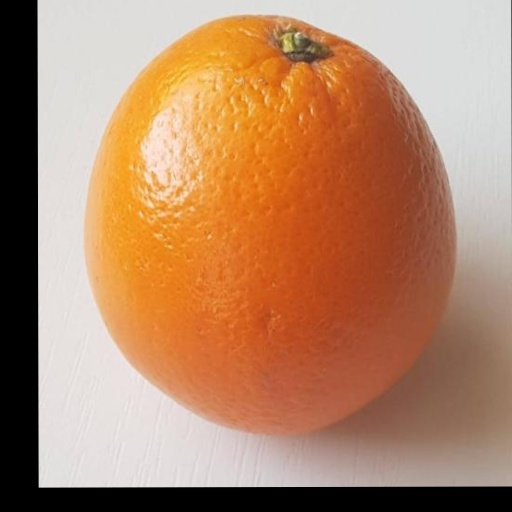fruit: (85, 16, 454, 433)
